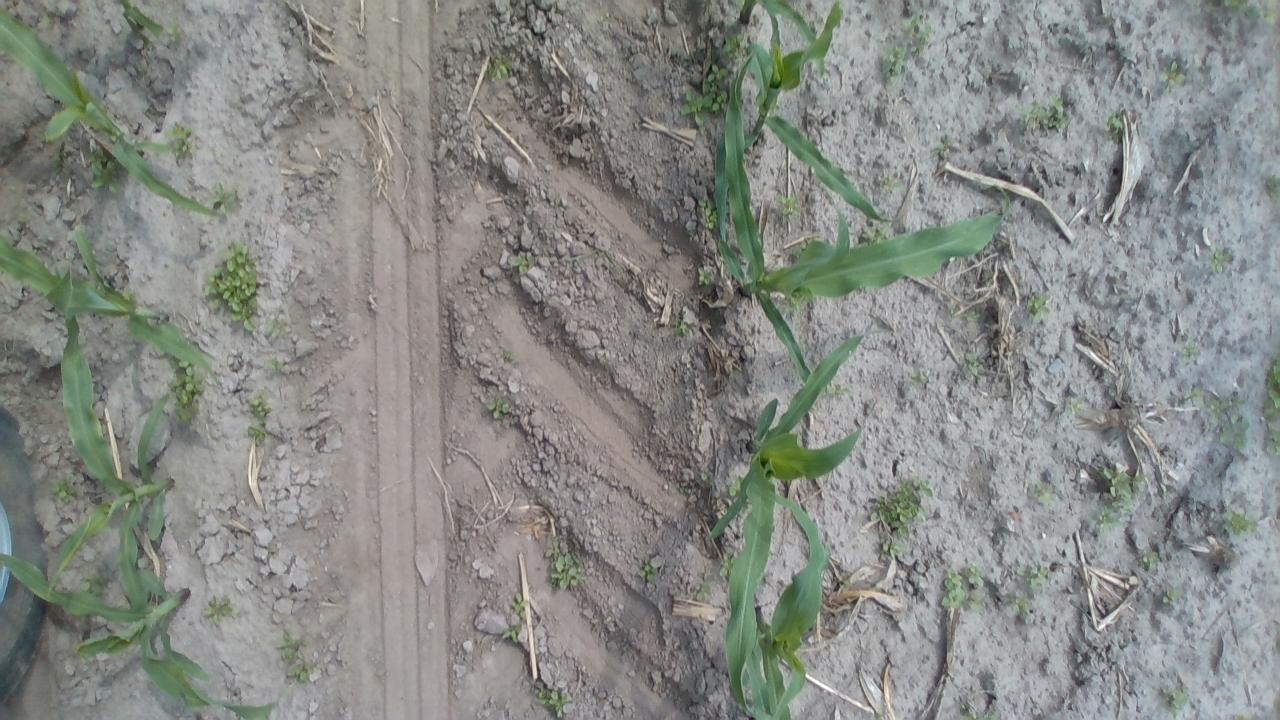Maize: (714, 133, 1026, 368), (699, 314, 871, 720), (0, 494, 287, 718), (0, 5, 227, 222), (36, 323, 182, 608), (728, 3, 902, 241), (0, 224, 231, 381), (746, 489, 828, 720), (732, 0, 835, 74), (120, 1, 180, 46)
Weeds: (202, 238, 262, 332), (865, 474, 933, 555), (1092, 465, 1150, 536), (167, 355, 205, 427), (680, 62, 726, 120), (1197, 392, 1246, 446), (280, 631, 322, 686), (546, 544, 592, 594), (1019, 94, 1069, 135), (941, 564, 982, 612), (83, 148, 123, 197), (1202, 392, 1242, 431), (532, 682, 572, 717), (882, 42, 918, 78), (168, 122, 196, 164), (1220, 505, 1254, 539), (202, 593, 238, 625), (902, 13, 932, 50), (1259, 361, 1276, 422), (1156, 61, 1190, 91), (1022, 292, 1054, 323), (49, 472, 80, 504), (1160, 684, 1189, 718), (210, 184, 241, 215), (771, 192, 804, 220), (721, 29, 749, 62), (486, 52, 516, 82), (1208, 244, 1236, 274), (962, 561, 987, 594), (484, 396, 516, 420), (698, 196, 719, 232), (248, 391, 274, 420), (954, 703, 1001, 719), (580, 241, 610, 266), (264, 314, 292, 340), (782, 294, 814, 316), (1223, 0, 1260, 19), (1024, 564, 1049, 592), (1058, 394, 1087, 418), (636, 556, 660, 584), (80, 572, 109, 595), (1011, 595, 1036, 620), (950, 304, 980, 324), (857, 224, 887, 244), (1106, 108, 1126, 138), (1031, 479, 1054, 505), (510, 250, 532, 276), (876, 171, 898, 195), (720, 550, 737, 580), (1138, 549, 1161, 571), (692, 576, 712, 601), (963, 352, 984, 375), (511, 592, 528, 620), (1256, 1, 1274, 27), (246, 422, 268, 443), (826, 382, 854, 398), (696, 468, 717, 489), (672, 317, 693, 338), (1180, 342, 1200, 364), (724, 480, 741, 505), (906, 370, 929, 388), (1160, 587, 1180, 607), (502, 624, 522, 644), (1185, 386, 1205, 406), (1264, 429, 1278, 457), (696, 266, 714, 286), (1264, 172, 1276, 201), (936, 136, 951, 158), (266, 356, 284, 373), (501, 347, 516, 363), (874, 708, 890, 720)
